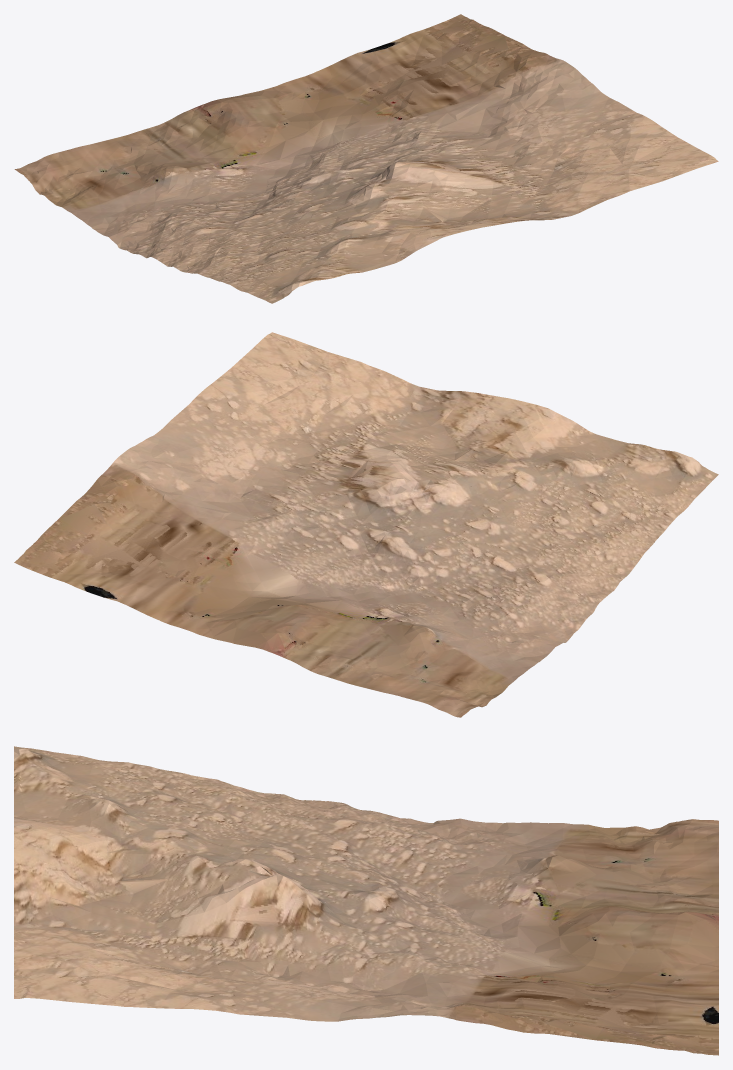
3 views of the same model, one above another, from view 1: azimuth 30°, elevation 25°; view 2: azimuth 150°, elevation 25°; view 3: azimuth 270°, elevation 25° (orthographic). The views are drawn at different scales.
Bounding box in the file's own units: 1.04 × 0.2126 × 1.04.
Materials: 2 (2 with a texture image).
